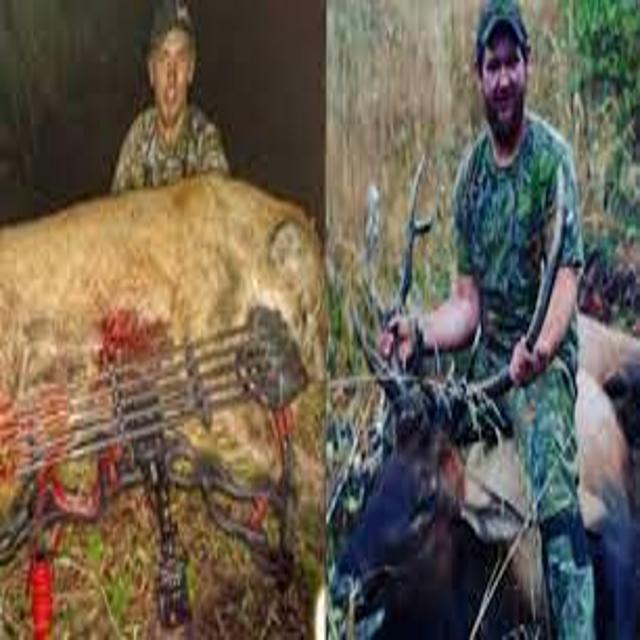Deer: (336, 164, 554, 640)
